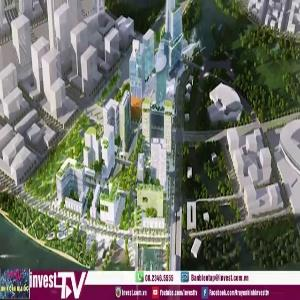drone: (171, 18, 271, 118)
